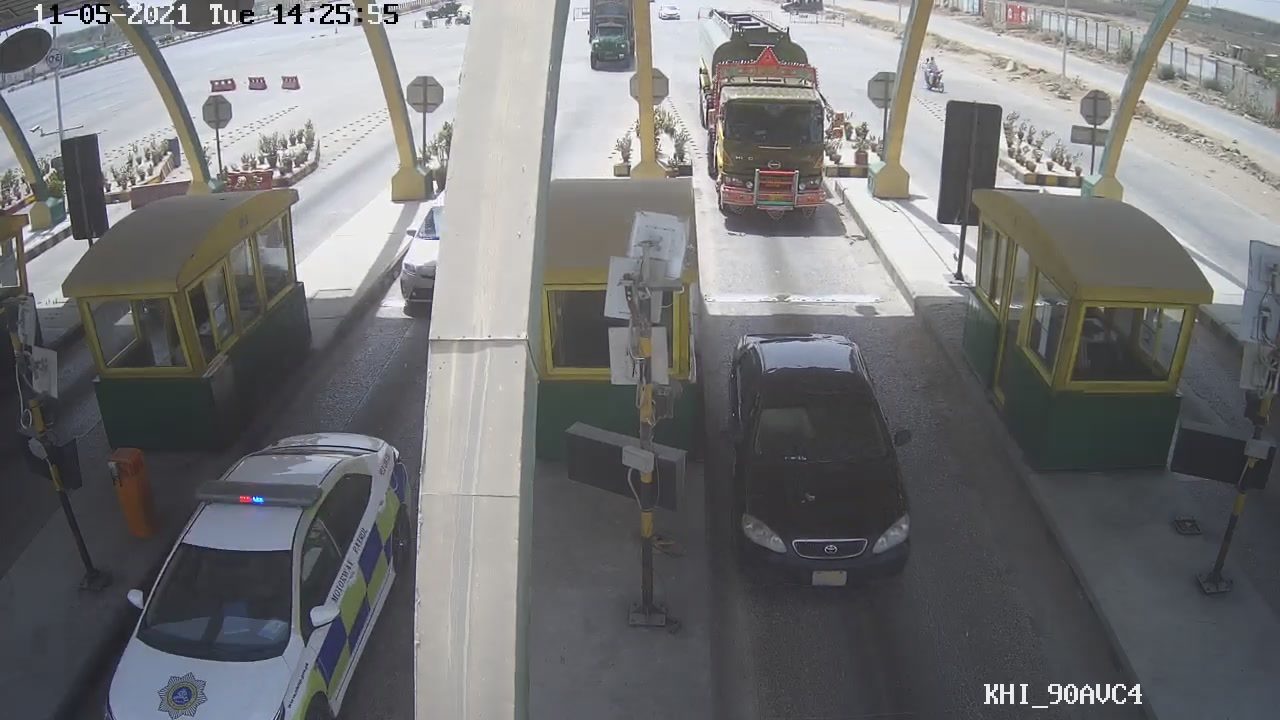F1: (726, 327, 914, 599)
